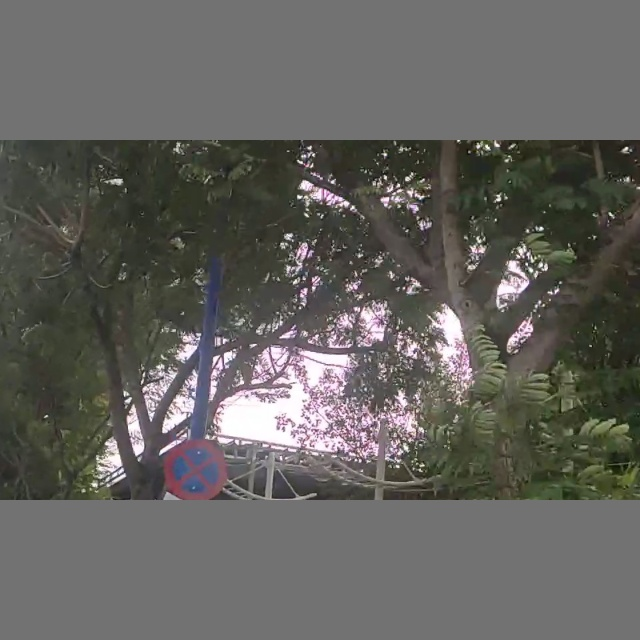P.130: (163, 437, 230, 500)
